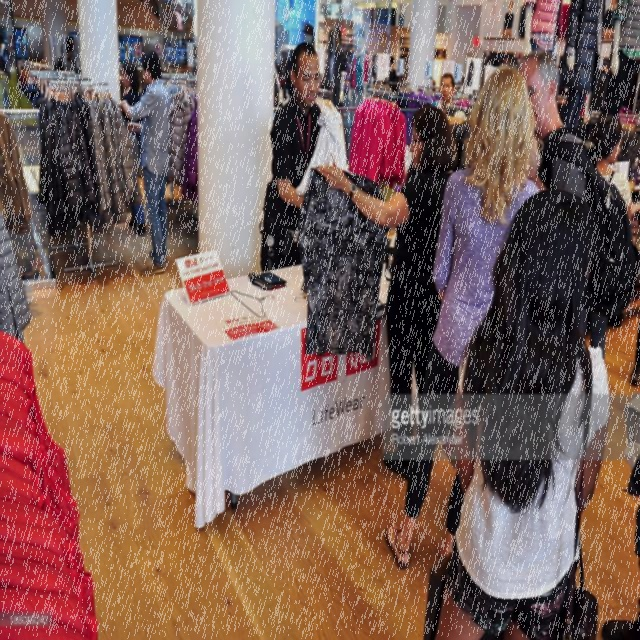pessoa: (378, 58, 548, 576), (431, 185, 614, 640), (312, 103, 456, 480), (515, 48, 609, 347), (259, 41, 335, 274), (117, 50, 174, 278), (524, 0, 640, 112), (118, 58, 147, 236), (590, 114, 633, 222), (322, 22, 376, 108), (434, 70, 468, 130), (628, 309, 640, 386), (53, 38, 78, 73), (278, 47, 291, 104), (500, 0, 515, 41), (389, 53, 405, 82), (68, 31, 78, 70), (124, 39, 144, 58), (466, 57, 476, 88), (301, 22, 315, 44), (396, 4, 406, 28), (424, 60, 430, 76), (454, 62, 458, 80)
